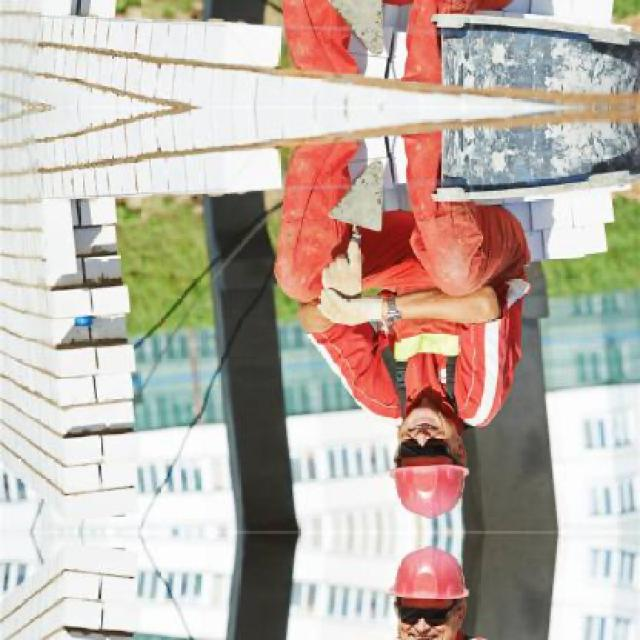con casco: (339, 386, 508, 514)
